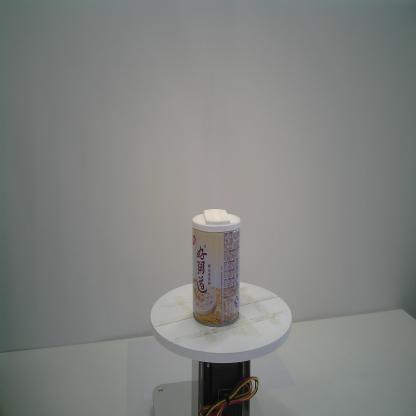Canned Food: (190, 207, 243, 330)
